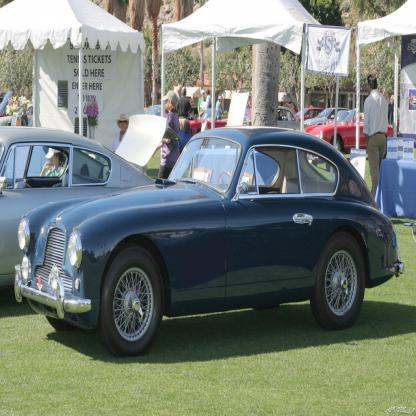Car: (0, 90, 405, 358)
